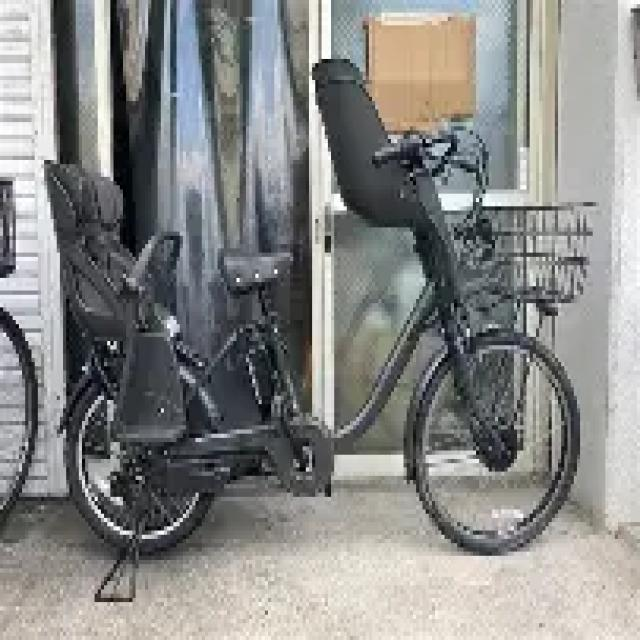basket: (470, 197, 595, 307)
battery: (244, 338, 286, 429)
childseat: (41, 154, 198, 446)
